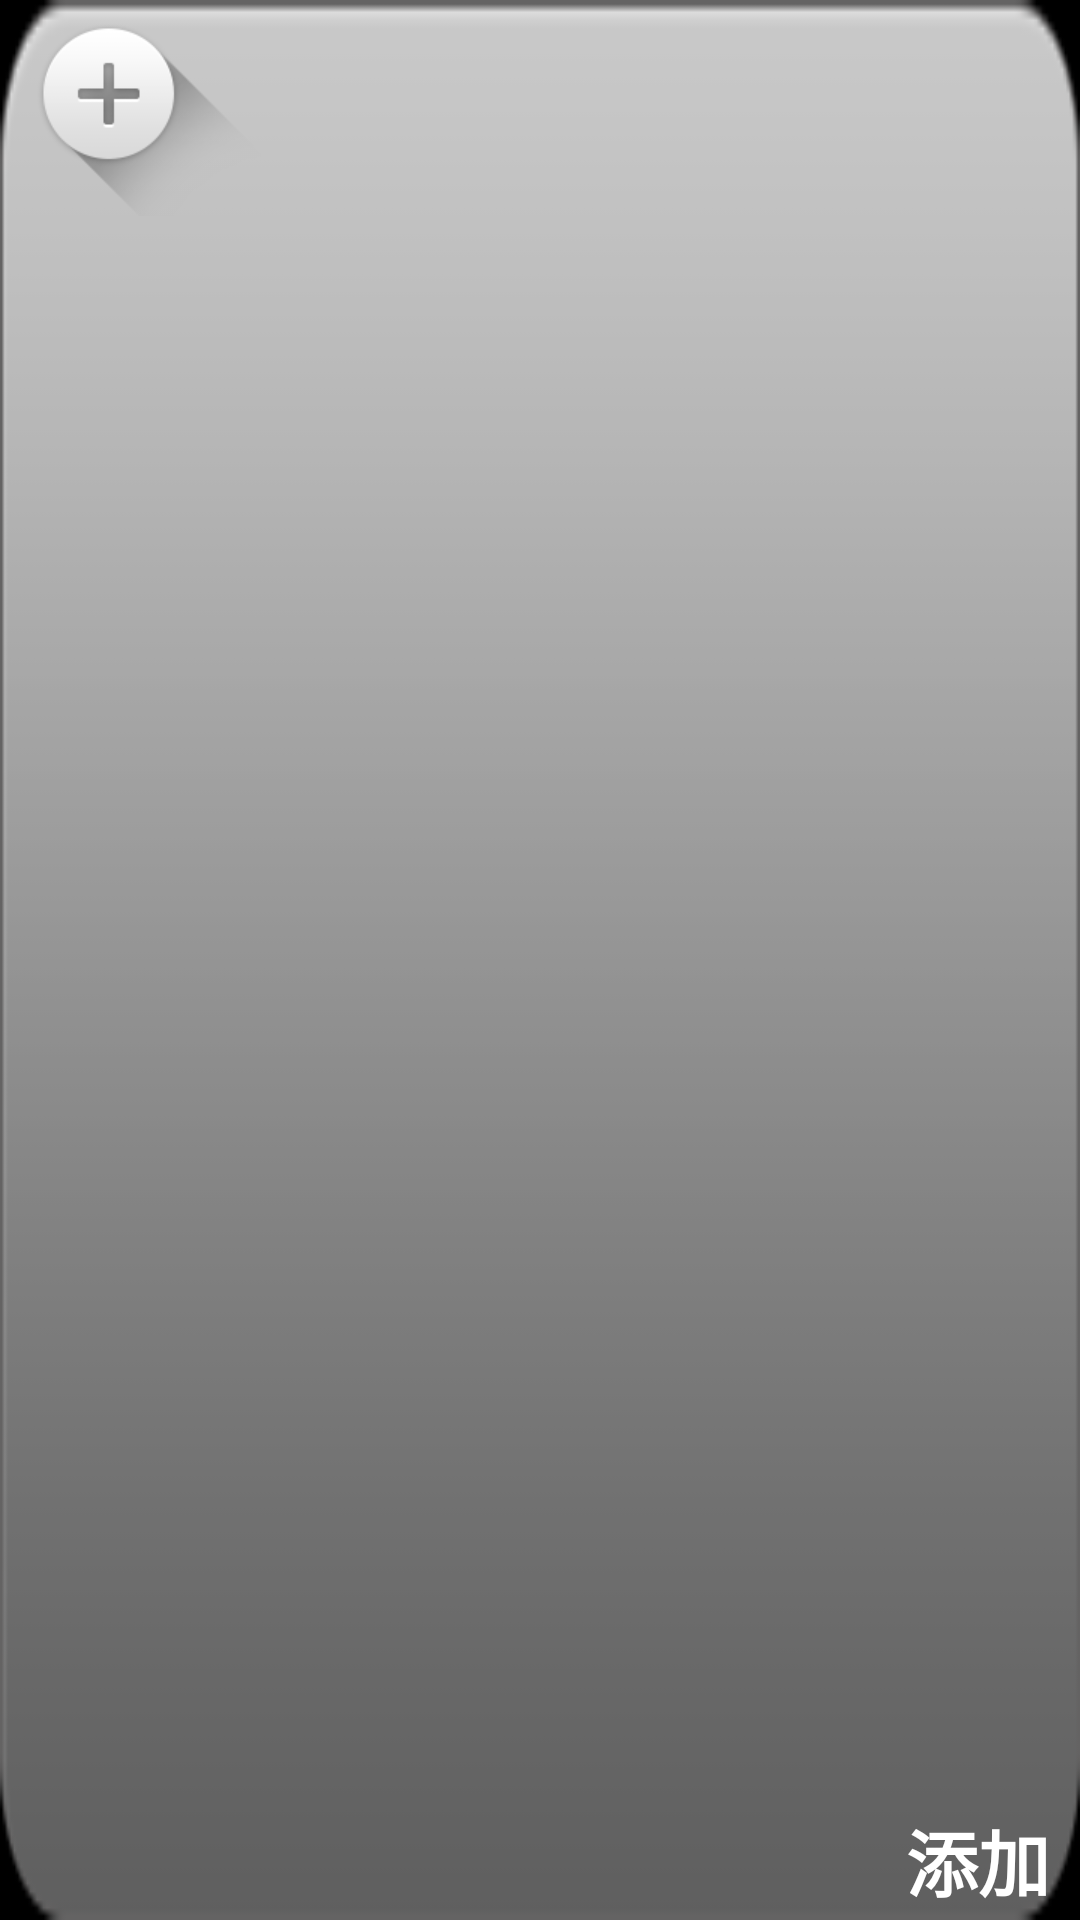

Screen size 1080px x 1920px. Icon name, then its box in pixels as (x1, y1, x2, y2):
simple add: (44, 28, 205, 189)
